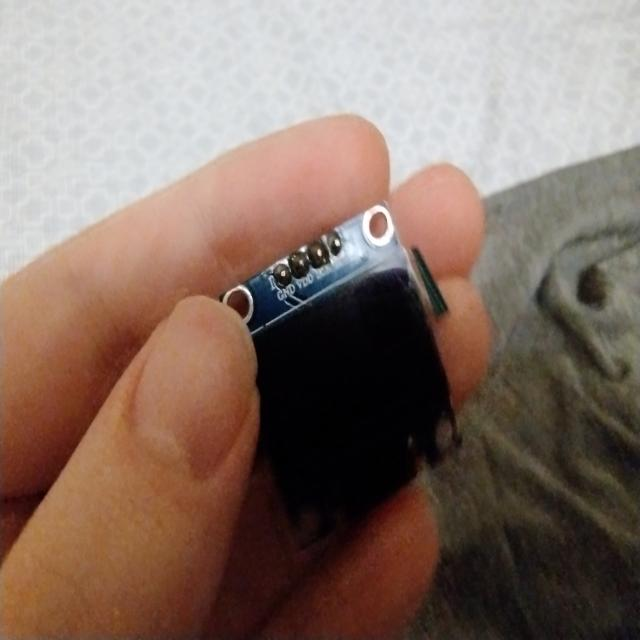oled: (210, 194, 466, 526)
